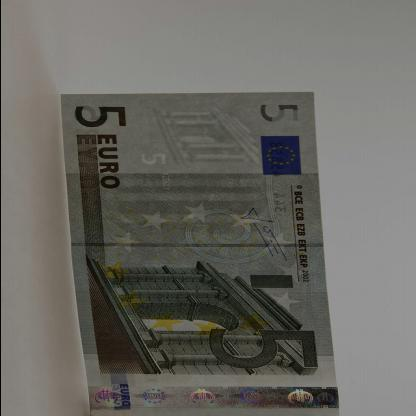euro_banknote: (39, 118, 363, 375)
